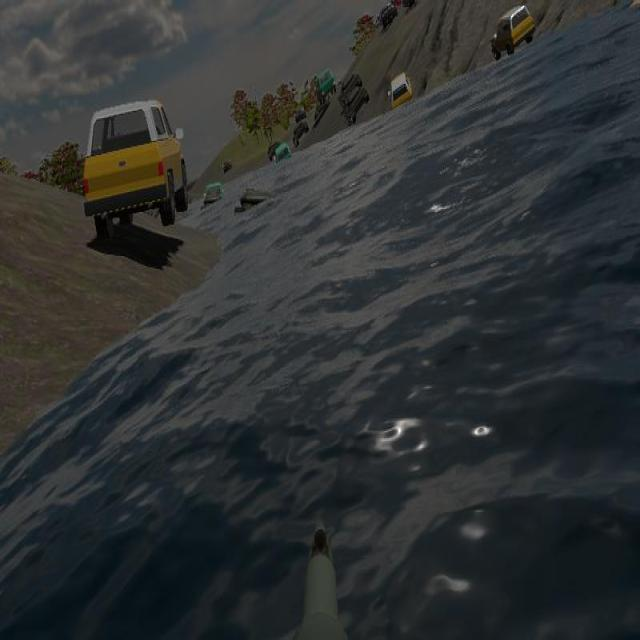Tank: (340, 84, 370, 123), (337, 70, 365, 110)
car: (83, 100, 188, 244), (492, 4, 535, 60), (389, 72, 412, 118)
